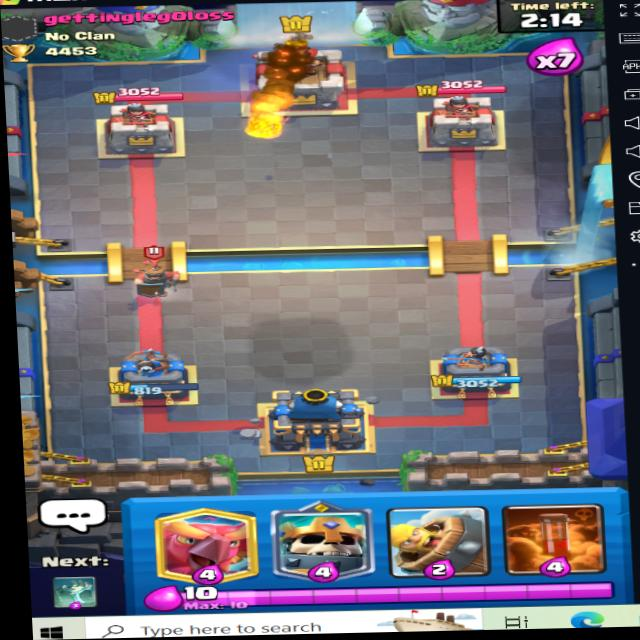fireball: (235, 92, 304, 155)
royal-recruits: (124, 246, 182, 300)
